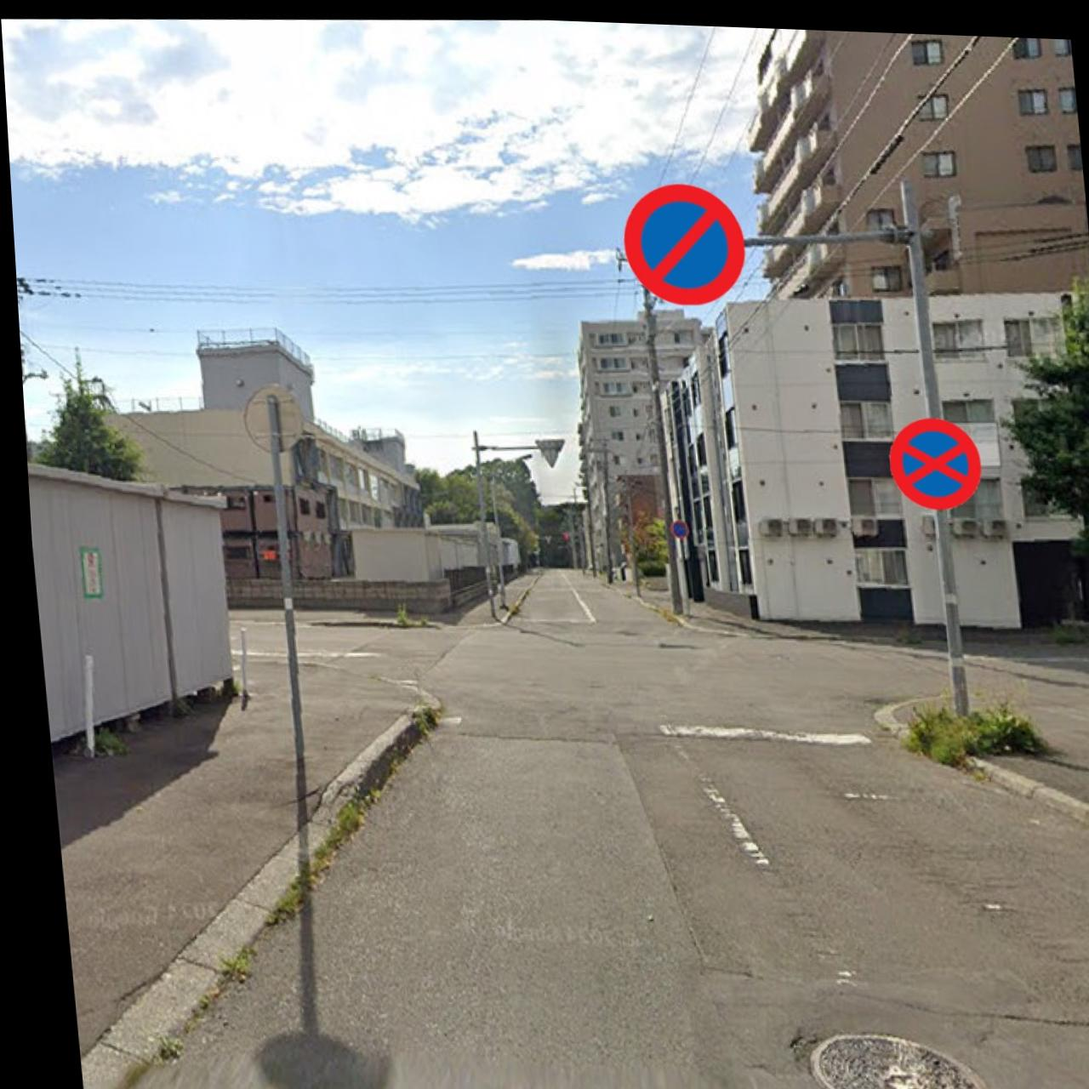stop_sign: (880, 415, 988, 518)
